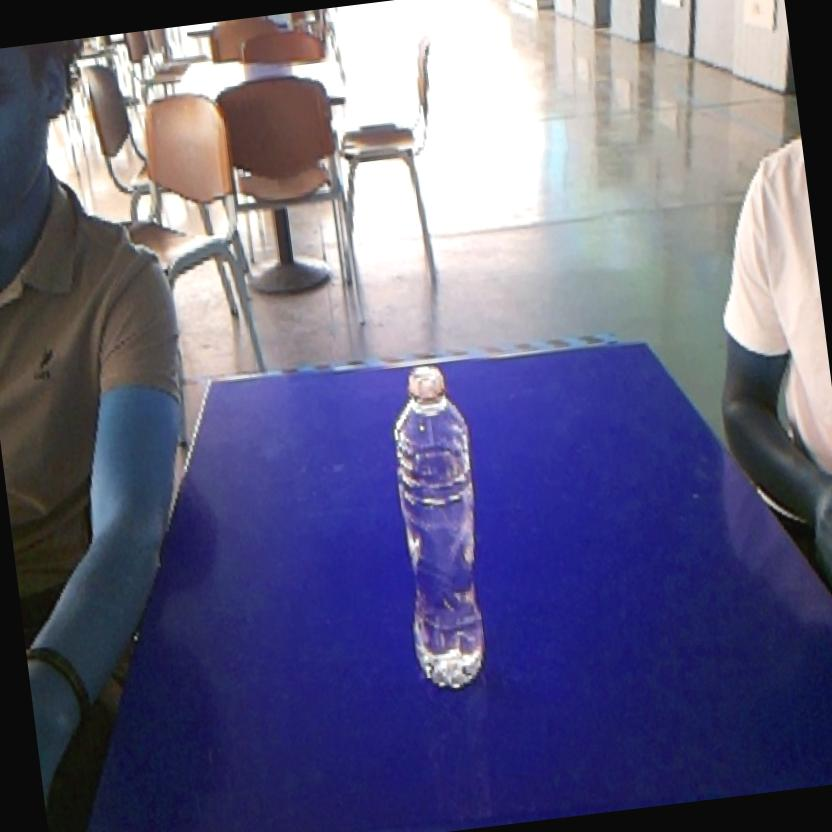no_cap: (373, 352, 506, 699)
